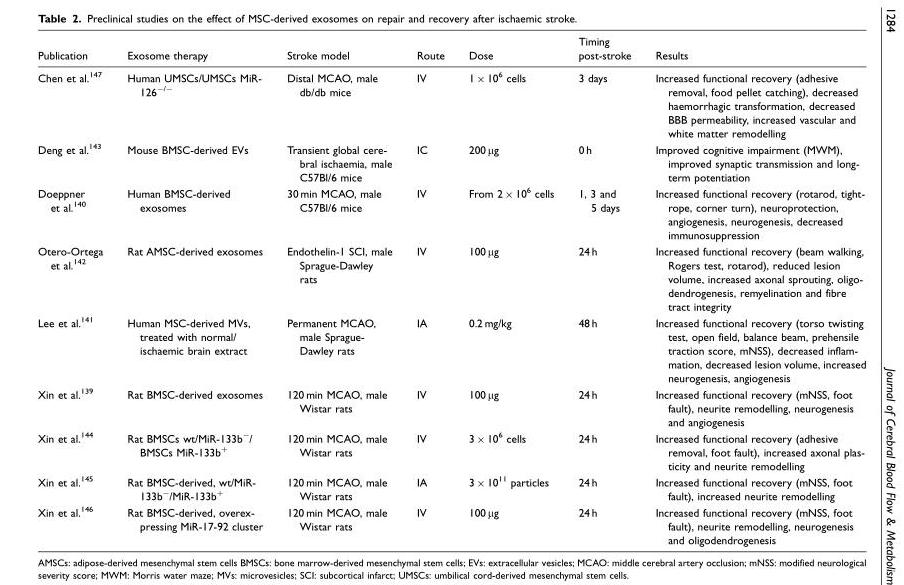table: (38, 36, 866, 545)
table column: (643, 36, 866, 545), (115, 36, 275, 545), (275, 36, 404, 545), (456, 36, 566, 545), (38, 36, 115, 545), (566, 36, 643, 545), (404, 36, 456, 545)
table column header: (38, 36, 866, 65)
table row: (38, 65, 866, 140), (38, 313, 866, 385), (38, 242, 866, 313), (38, 184, 866, 242), (38, 140, 866, 184), (38, 385, 866, 429), (38, 429, 866, 473), (38, 503, 866, 545), (38, 473, 866, 503), (38, 36, 866, 65)
